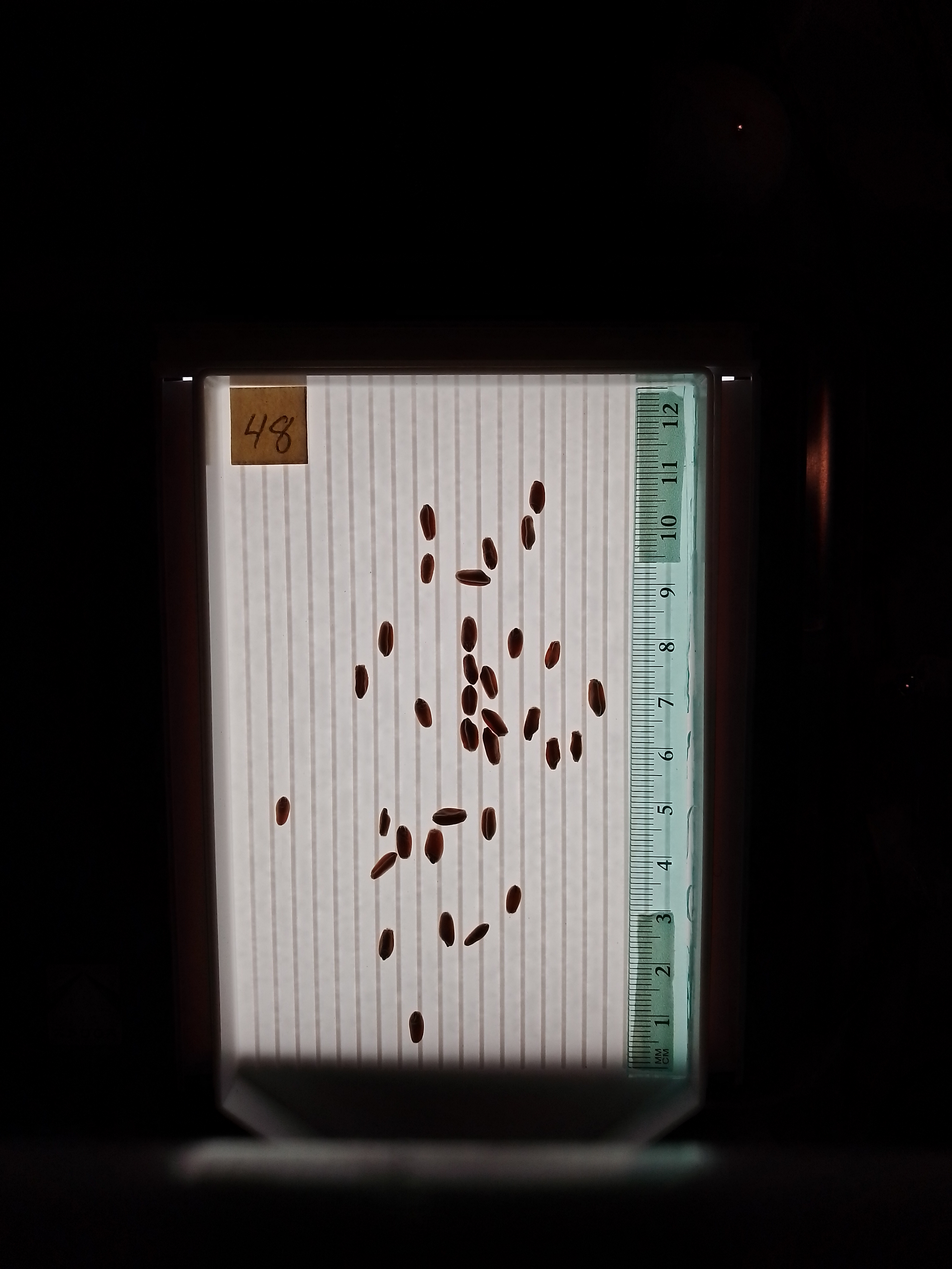seed mask: (371, 852, 397, 879), (483, 709, 507, 736), (425, 830, 444, 864), (457, 568, 491, 587), (483, 730, 500, 765), (433, 808, 466, 826), (461, 720, 479, 752), (589, 680, 605, 716), (420, 505, 436, 539), (481, 666, 498, 698), (466, 923, 489, 946), (529, 481, 545, 514), (524, 707, 540, 740), (396, 826, 412, 858), (481, 808, 497, 840), (461, 617, 476, 651), (439, 913, 454, 946), (354, 665, 369, 698), (379, 622, 394, 655), (378, 930, 394, 960), (483, 537, 498, 569), (415, 699, 432, 727), (521, 516, 535, 549), (409, 1012, 424, 1042), (275, 796, 290, 826), (508, 628, 523, 658), (506, 885, 521, 913), (546, 739, 560, 769), (463, 655, 478, 683), (462, 686, 476, 715), (420, 555, 434, 584), (545, 642, 560, 668), (570, 732, 583, 761), (379, 809, 390, 836)
